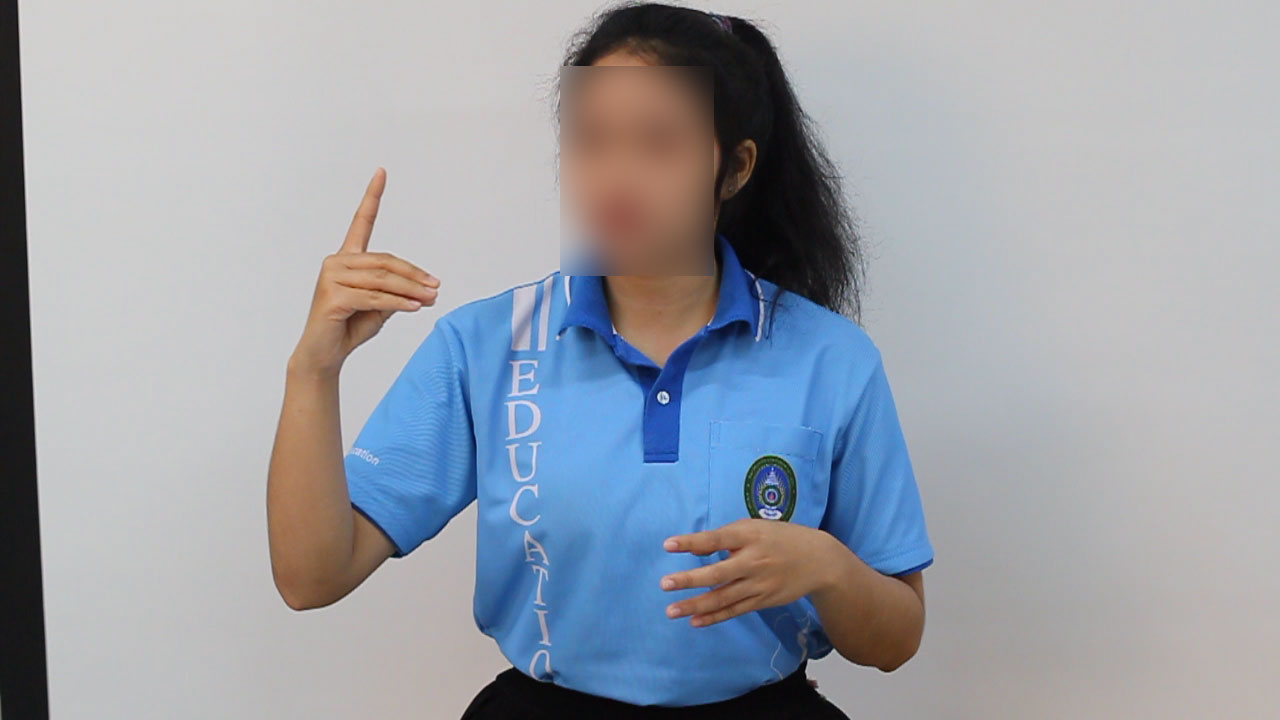dor: (283, 159, 447, 370)
